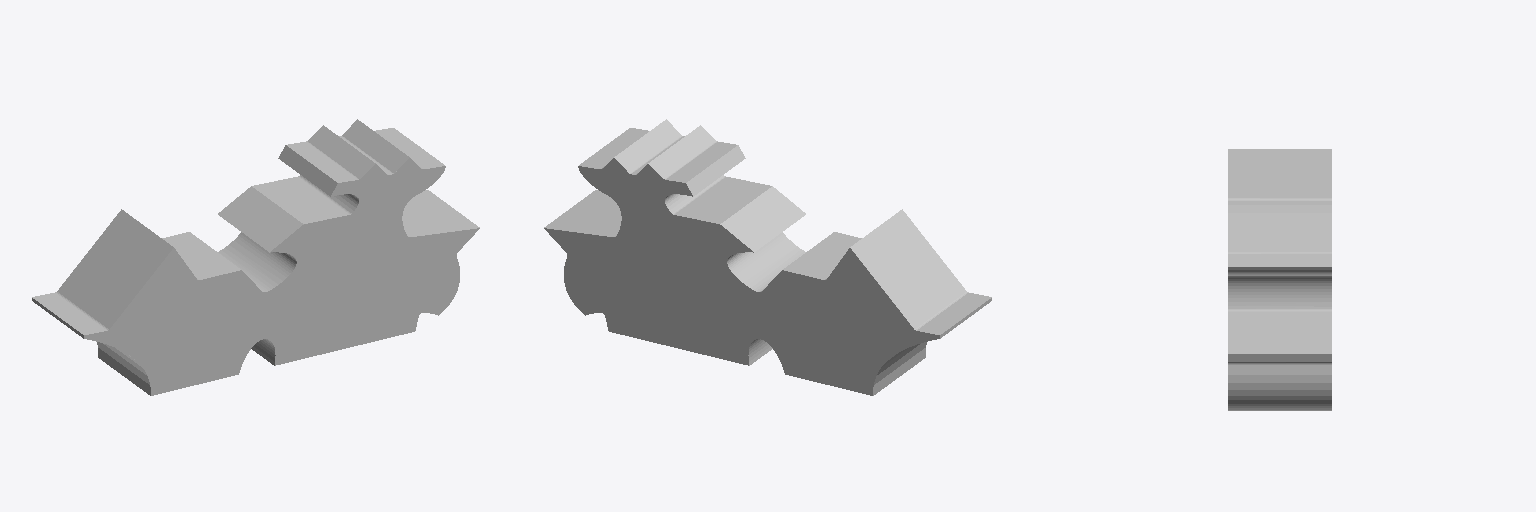
The model's file is imperial.obj.
3 views of the same model, side by side, from view 1: azimuth 30°, elevation 25°; view 2: azimuth 150°, elevation 25°; view 3: azimuth 270°, elevation 25° (orthographic).
Visible parts, largest first — view 1: Imperial; view 2: Imperial; view 3: Imperial.
Part boxes in pixels (bbox=[...]): Imperial: bbox=[32, 119, 479, 395]; Imperial: bbox=[544, 119, 991, 395]; Imperial: bbox=[1228, 149, 1331, 410].
Size of the model in its own units: 3.5 by 1.5 by 0.8.